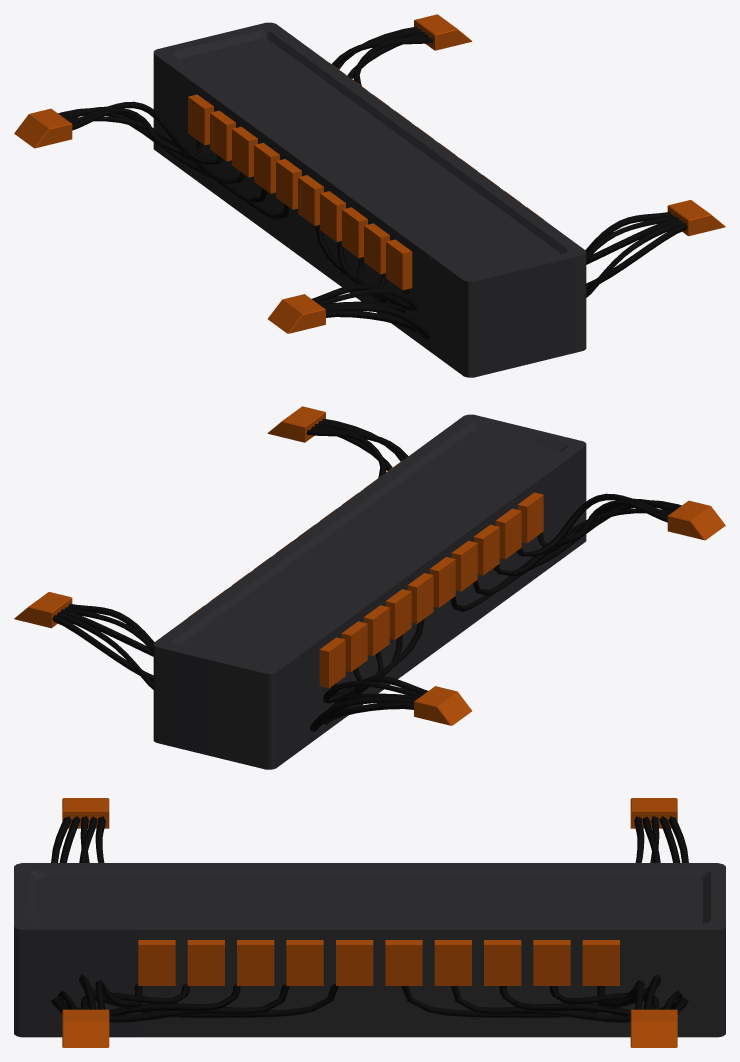
Rendered from Battery001.fbx.
3 views of the same model, one above another, from view 1: azimuth 30°, elevation 25°; view 2: azimuth 150°, elevation 25°; view 3: azimuth 270°, elevation 25° (orthographic). The views are drawn at different scales.
Parts seen in each view (by area): view 1: Battery001; view 2: Battery001; view 3: Battery001.
Part boxes in pixels (x1,y1,x2,y2): Battery001: (14,14,725,377); Battery001: (14,406,725,769); Battery001: (14,798,725,1047).
Size of the model in its own units: 28.72 by 6 by 36.
